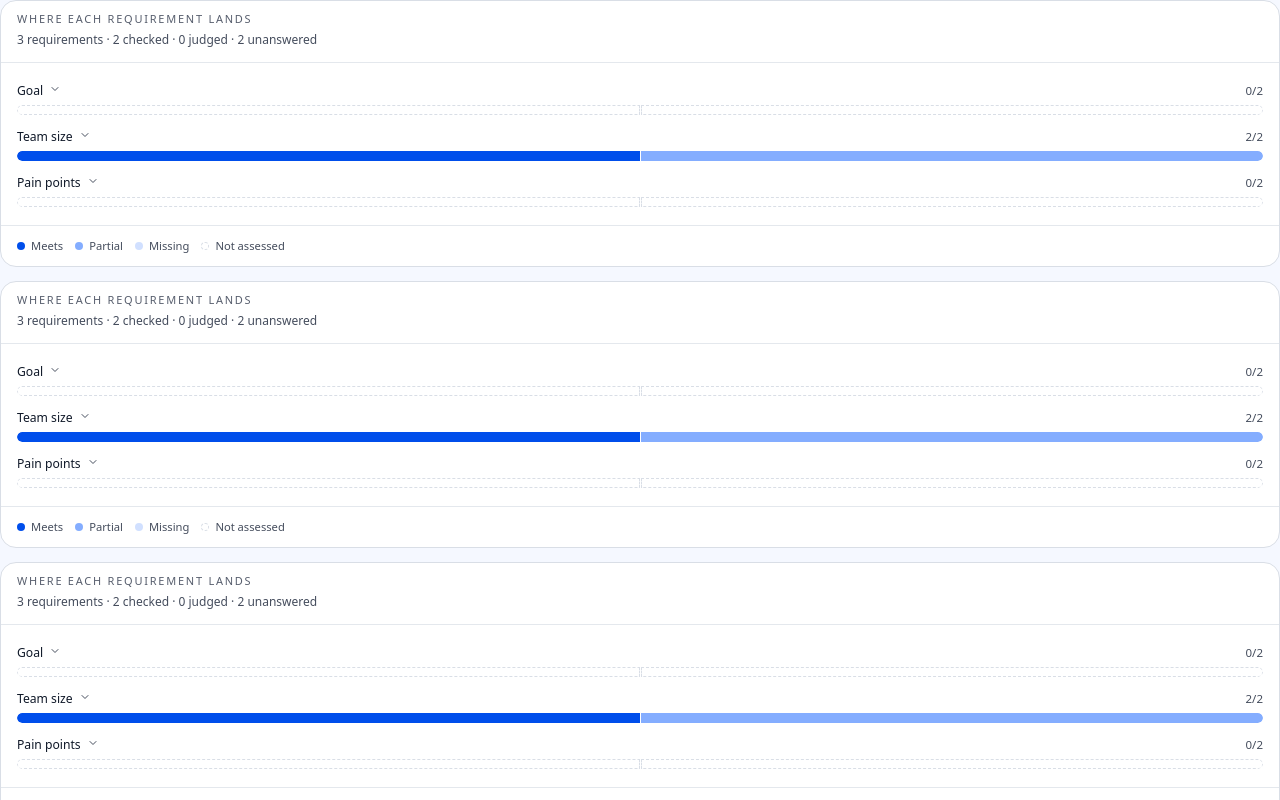
Test case: RequirementCoverageCard › does not restate the requirement list — values appear only on expansion
The image size is (1280, 800).
expect the text "improve visibility" is not shown: met
Click the 3rd button "Goal" at (39, 653), box [17, 643, 61, 663]
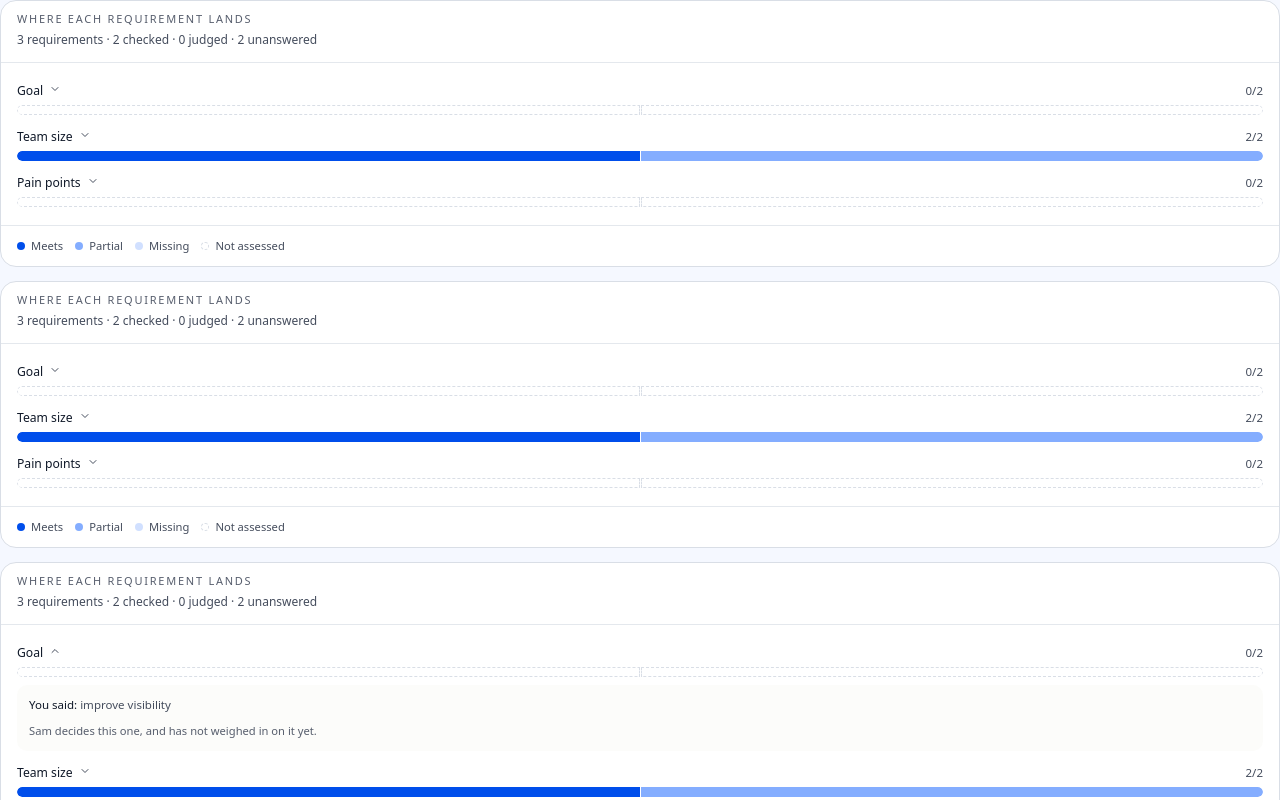
expect the text "improve visibility" is shown: met, box [80, 697, 171, 712]
expect the 3rd button "Goal" is expanded: met, box [17, 643, 61, 663]
